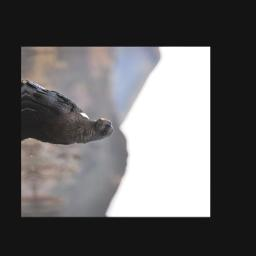Crow: (24, 75, 117, 147)
